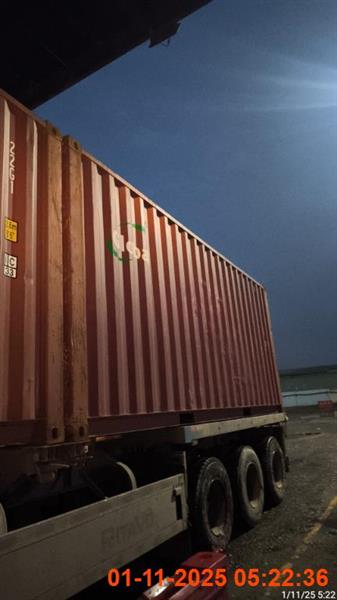broken: (0, 89, 290, 599), (0, 89, 290, 598)
